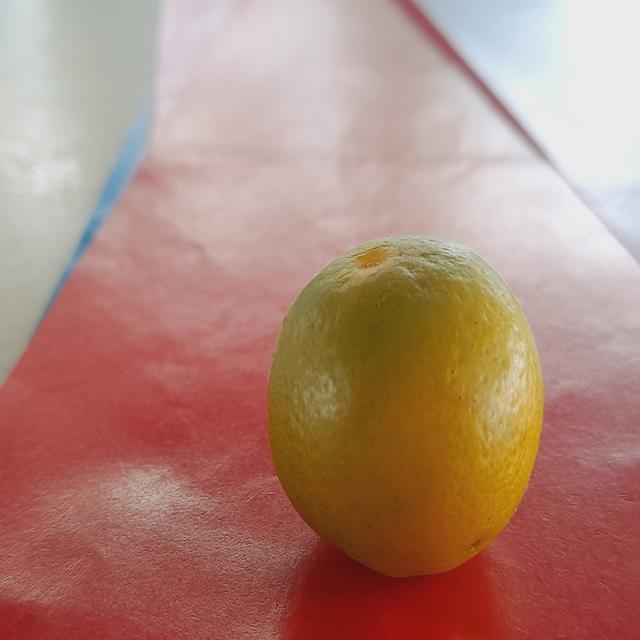greening: (264, 237, 550, 579)
